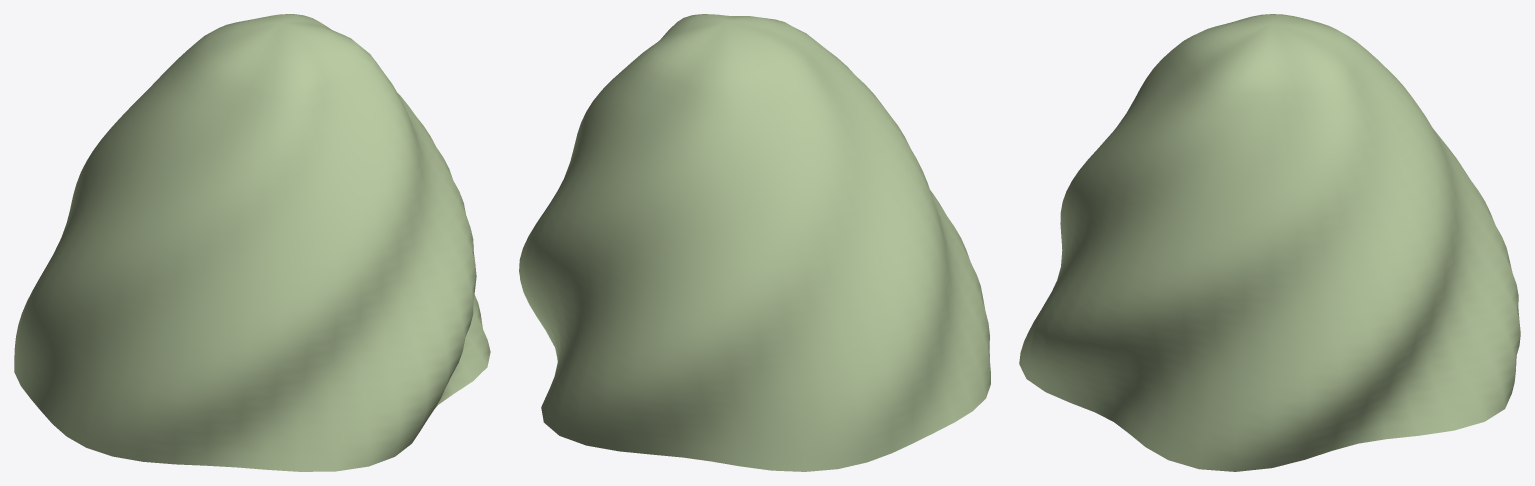
The model's file is NPR_07_2052__MOD__VegetationElements__Topiary__DomeBush__Var-02__.glb.
3 views of the same model, side by side, from view 1: azimuth 30°, elevation 25°; view 2: azimuth 150°, elevation 25°; view 3: azimuth 270°, elevation 25° (orthographic). The views are drawn at different scales.
Parts seen in each view (by area): view 1: NPR_07_2052__MOD__VegetationElements__Topiary__DomeBush__Var; view 2: NPR_07_2052__MOD__VegetationElements__Topiary__DomeBush__Var; view 3: NPR_07_2052__MOD__VegetationElements__Topiary__DomeBush__Var.
Part boxes in pixels (left/top/right/bottom): NPR_07_2052__MOD__VegetationElements__Topiary__DomeBush__Var: left=14, top=14, right=490, bottom=471; NPR_07_2052__MOD__VegetationElements__Topiary__DomeBush__Var: left=519, top=14, right=990, bottom=471; NPR_07_2052__MOD__VegetationElements__Topiary__DomeBush__Var: left=1019, top=14, right=1520, bottom=471.
Bounding box in the file's own units: 1.44 × 1.15 × 1.46.
